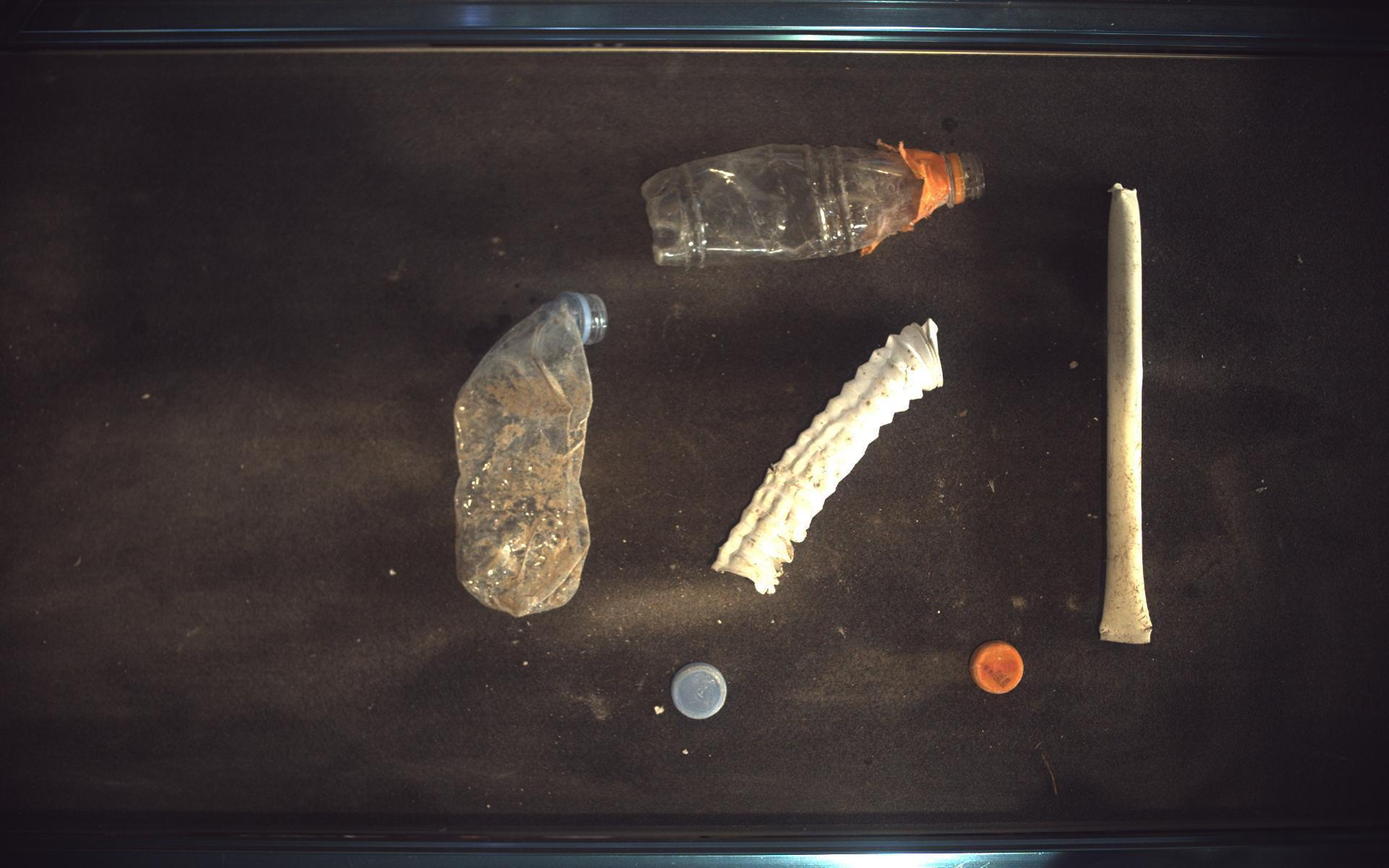general_w: (454, 292, 608, 618), (642, 140, 987, 266), (672, 663, 728, 720), (972, 642, 1026, 695)
pipes: (1102, 182, 1155, 645)
plastic: (713, 318, 944, 594)
